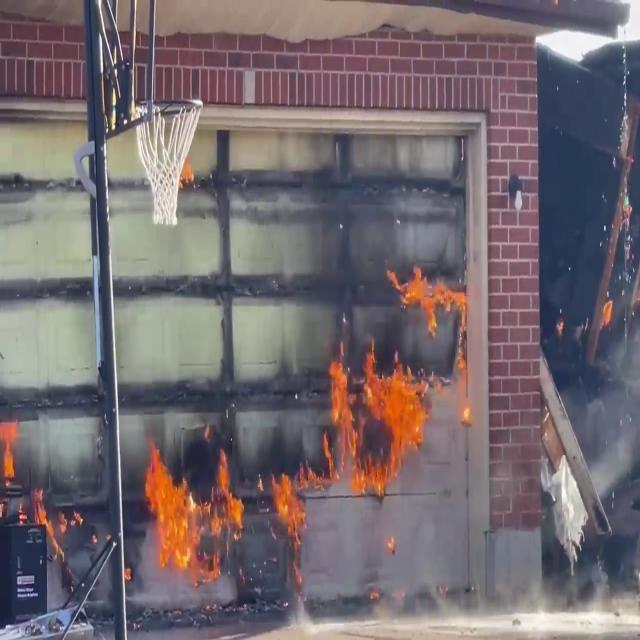Fire: (318, 331, 433, 497), (140, 423, 244, 581), (386, 256, 466, 334), (271, 461, 309, 567), (0, 417, 23, 492)
